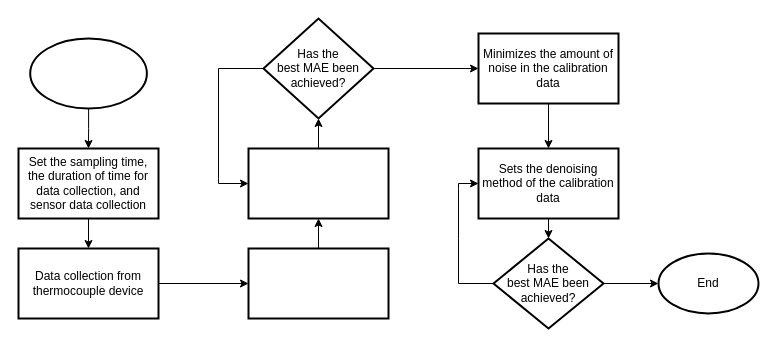
This 776x346 diagram has some shape labels left out. Here are the shapes that lost their labels. From the top down, the centre of each, then its label:
At point 88,73: "Start".
At point 318,183: "Sets ANN parameters for sensor calibration".
At point 318,283: "Calibrate the thermocouple sensor using ANN to the actual temperature value.".
